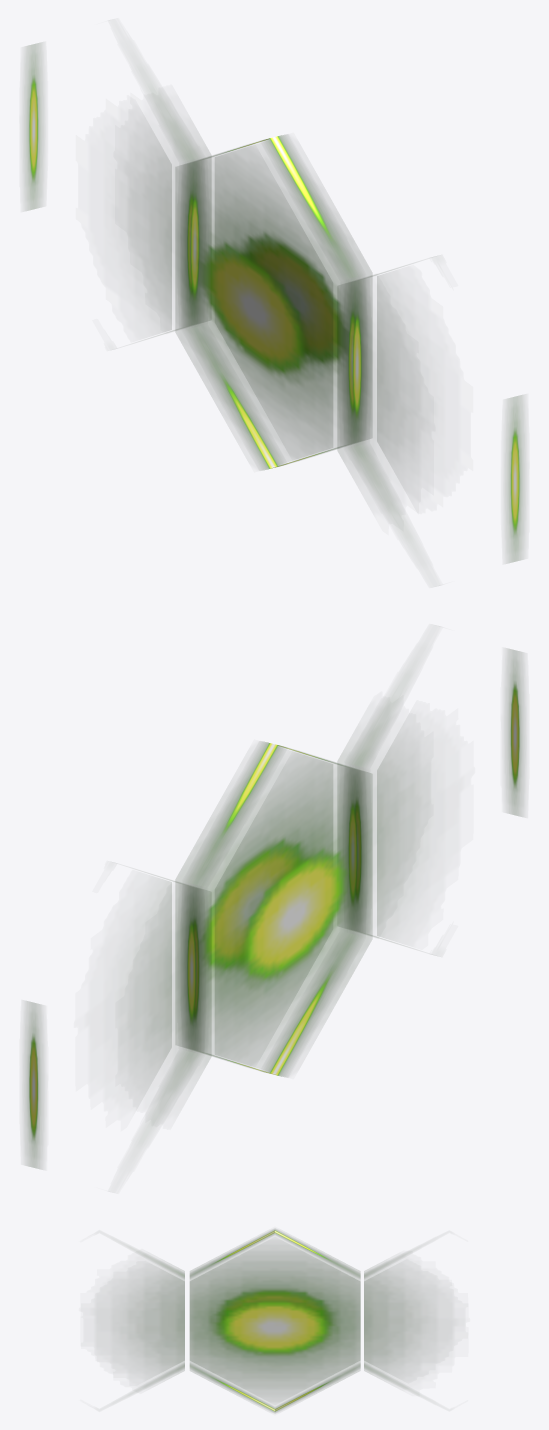
3 renders of one model, top to bottom at view 1: azimuth 30°, elevation 25°; view 2: azimuth 150°, elevation 25°; view 3: azimuth 270°, elevation 25°, orthographic. The views are drawn at different scales.
Size of the model in its own units: 0.1044 by 0.8337 by 2.2.
Materials: 1 (1 with a texture image).
